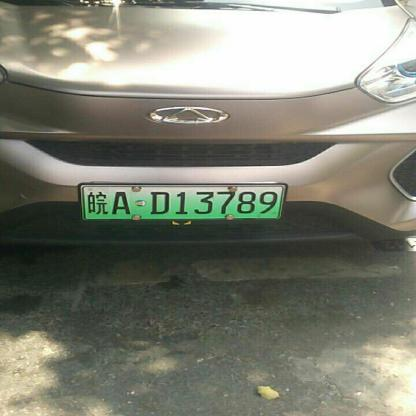lp: (83, 185, 284, 220)
